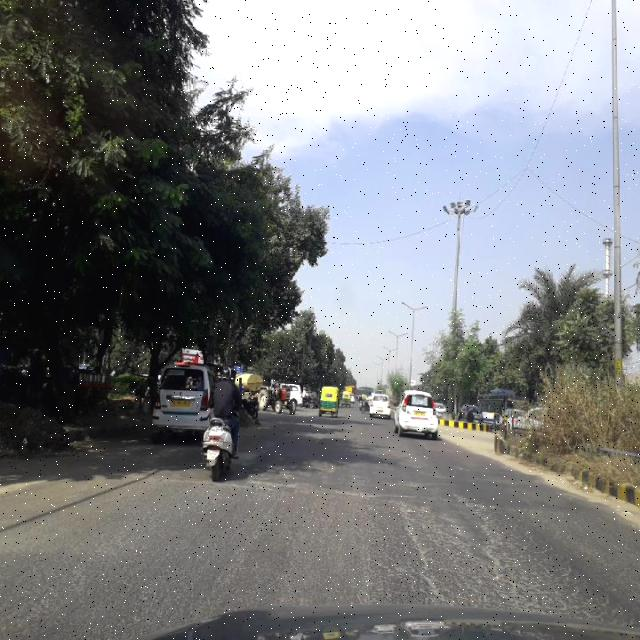D20: (332, 484, 620, 618)
